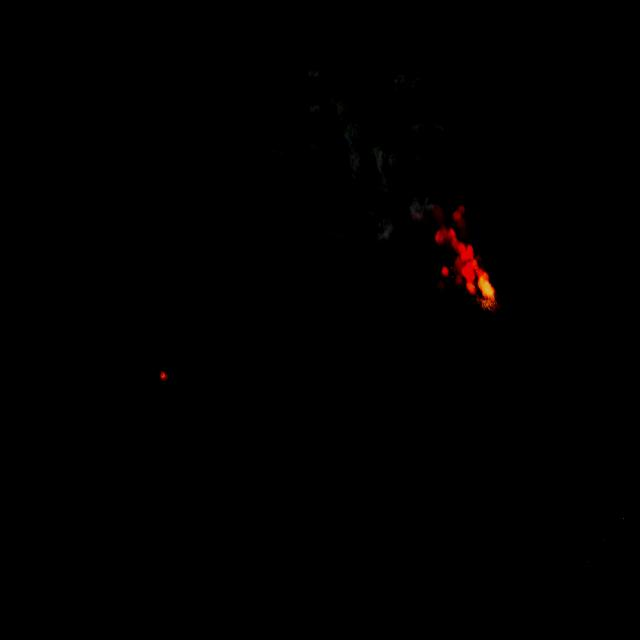fire: (474, 270, 497, 304), (158, 368, 167, 381)
smoke: (338, 118, 488, 317), (292, 62, 368, 190), (388, 64, 424, 98), (296, 130, 326, 160), (266, 24, 292, 56), (379, 17, 402, 44), (326, 223, 349, 247), (307, 180, 330, 203)
